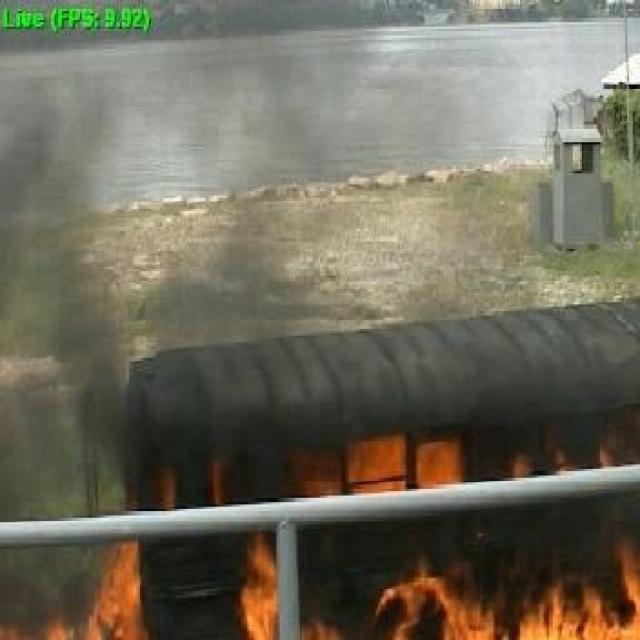Fire: (0, 359, 636, 633)
Smoke: (0, 2, 469, 356)
